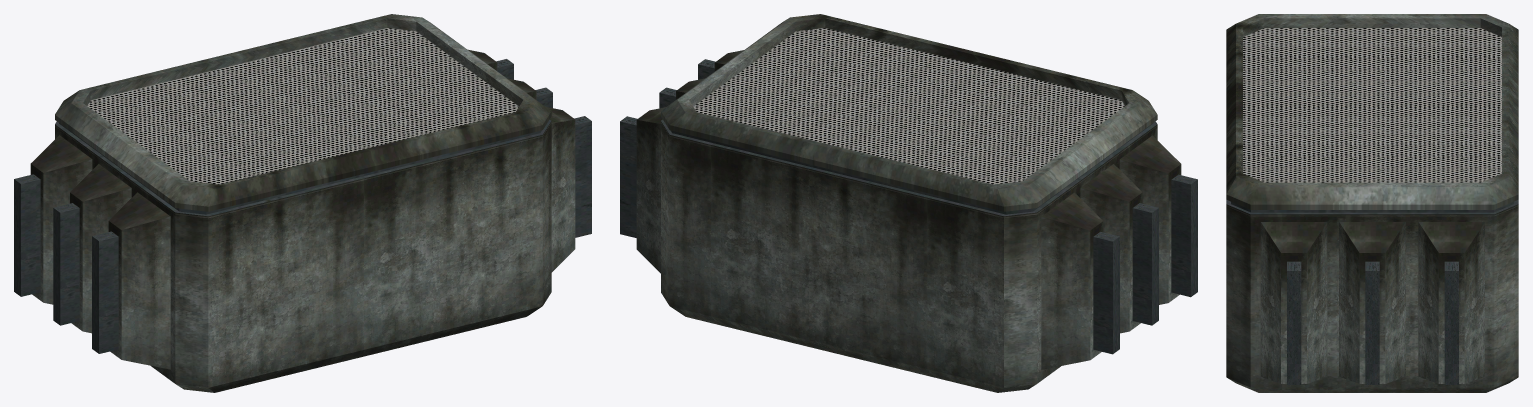
File: thm_tato_debris_s08_l0.fbx
3 renders of one model, left to right at view 1: azimuth 30°, elevation 25°; view 2: azimuth 150°, elevation 25°; view 3: azimuth 270°, elevation 25°, orthographic.
Visible parts, largest first — view 1: mesh_node; view 2: mesh_node; view 3: mesh_node.
Boxes of the visible parts, x1,y1,x2,y2 form: mesh_node: [14, 14, 591, 392]; mesh_node: [620, 14, 1197, 392]; mesh_node: [1226, 14, 1518, 392].
Size of the model in its own units: 0.7964 by 0.315 by 0.4052.
